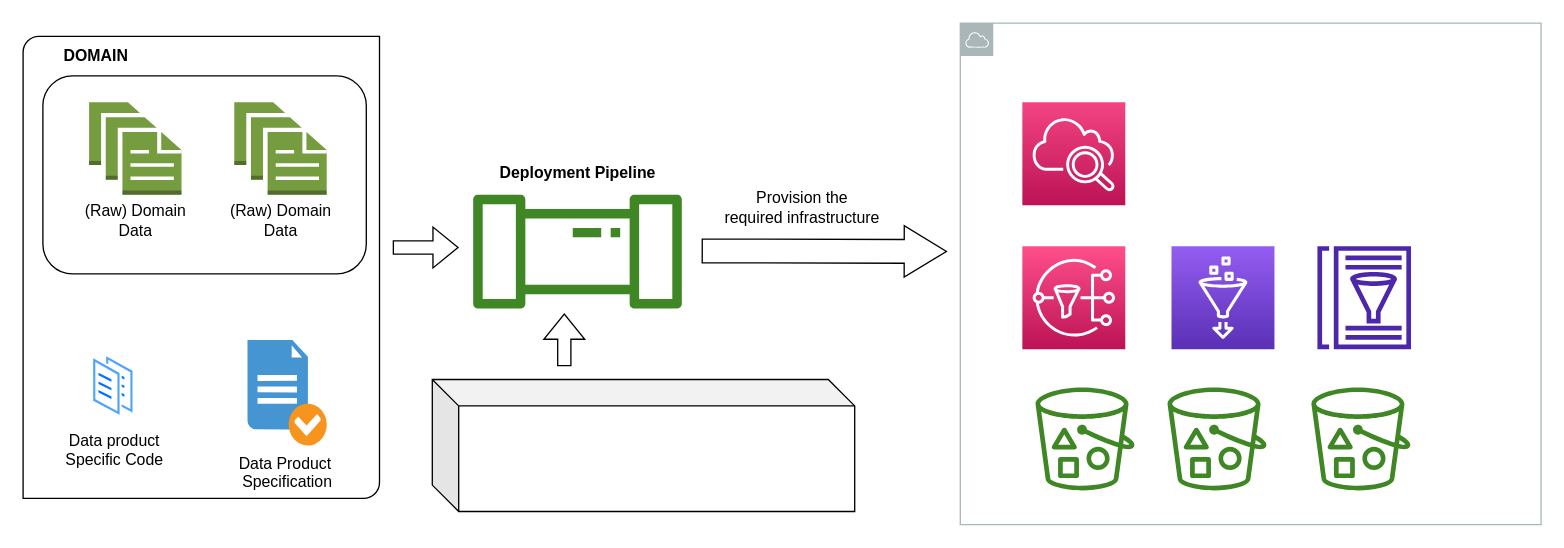
Image size: 1564x548. Some labels were removed from this diagram. Each missing label, with the box of its shape:
AWS Cloud: (959, 22, 1541, 525)
Infrastructure Utility Plane: (431, 378, 855, 512)
